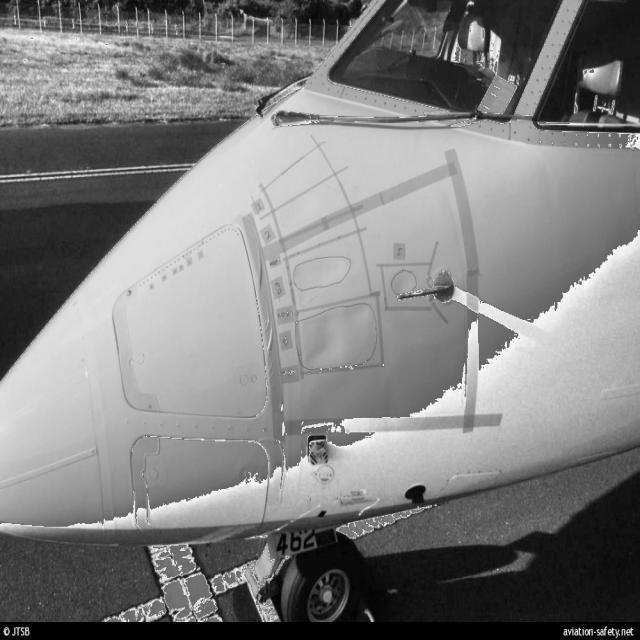dent: (302, 302, 369, 369)
